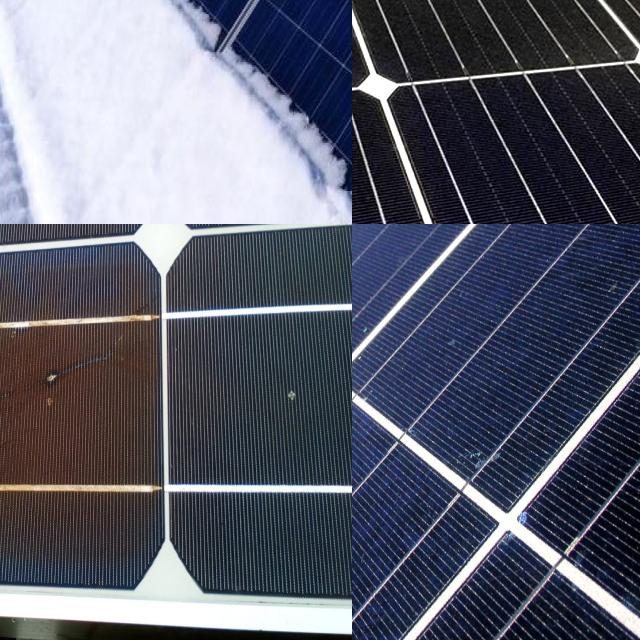crack: (352, 224, 640, 640), (352, 56, 640, 224), (352, 0, 640, 117), (352, 94, 585, 224), (352, 0, 507, 150), (501, 0, 640, 124), (352, 0, 551, 69), (451, 0, 640, 70), (352, 0, 474, 72)
panel: (135, 0, 251, 147), (254, 42, 332, 209), (77, 0, 153, 63), (0, 0, 64, 51)
shadow: (0, 256, 166, 549)
